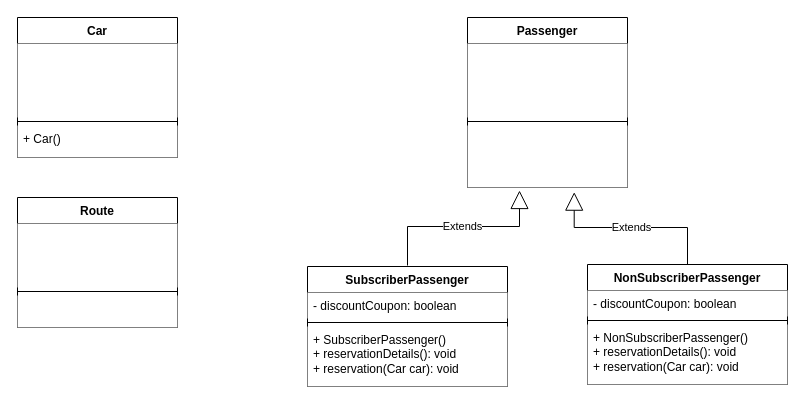
This 805x407 diagram has some shape labels left out. Here are the shapes that lost their labels. From the top down, the box of each, then its label:
(17, 43, 177, 117): - code: String - fixedRoute: Route - maximumCapacity: int - availableSeat: int
(467, 43, 627, 117): - name: String - ID: String - reservedCar: Car - tripCost: double
(467, 125, 627, 187): + Passenger() + reservationDetails(): void + reservation(Car car): void
(17, 223, 177, 287): - pickUp: String - destination: String - tripCost: double
(17, 295, 177, 327): + Route()
